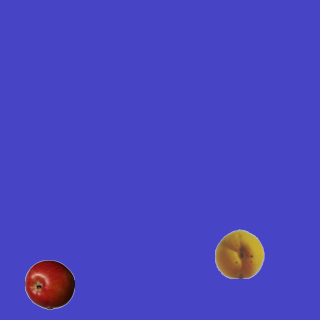Apple Braeburn: (24, 259, 74, 309)
Peach 2: (214, 228, 264, 278)
